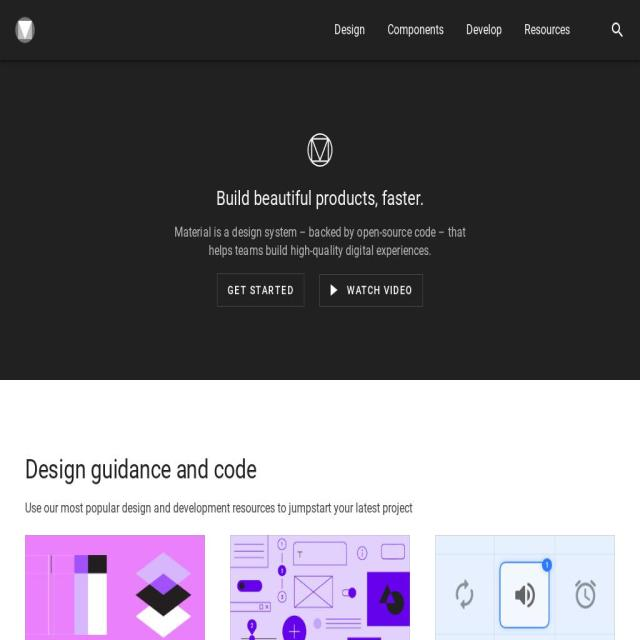button: (12, 518, 218, 640), (217, 518, 422, 640), (422, 518, 627, 640), (378, 0, 453, 60), (514, 0, 580, 60), (319, 274, 424, 308), (456, 0, 512, 60), (324, 0, 375, 60), (216, 273, 305, 307), (0, 0, 45, 60)
heading: (25, 453, 615, 486), (164, 187, 476, 210)
image: (229, 535, 410, 640), (434, 535, 615, 640), (25, 535, 205, 640), (15, 17, 35, 43)
text: (25, 498, 615, 520), (164, 223, 476, 260), (347, 275, 413, 306), (388, 22, 443, 38), (524, 22, 570, 38), (334, 22, 365, 38), (326, 280, 341, 301), (610, 20, 625, 40)
